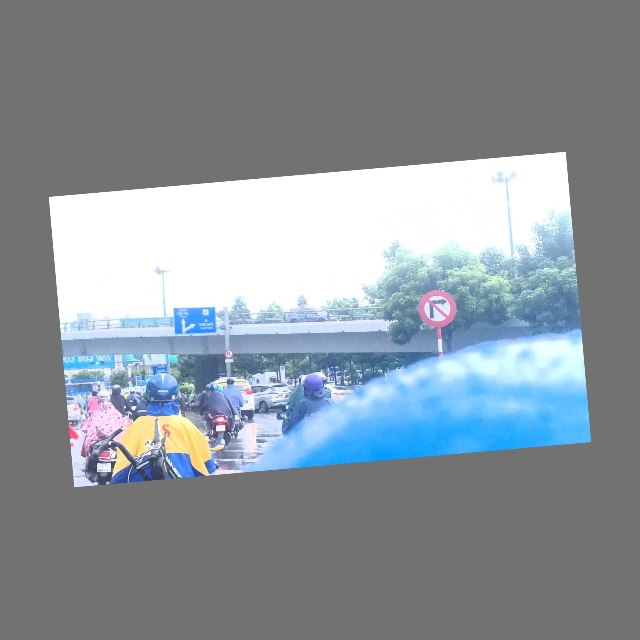P.123b: (410, 282, 465, 337)
P.124b1: (223, 348, 235, 361)
